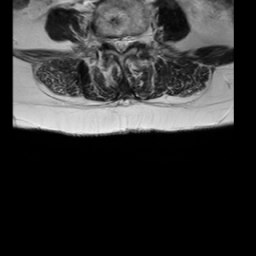CCS_normal: (117, 29, 124, 59)
LFS_normal: (131, 27, 140, 49)
LLS_normal: (124, 29, 130, 54)
RFS_stenosis: (103, 27, 110, 49)
RLS_normal: (110, 29, 117, 54)
